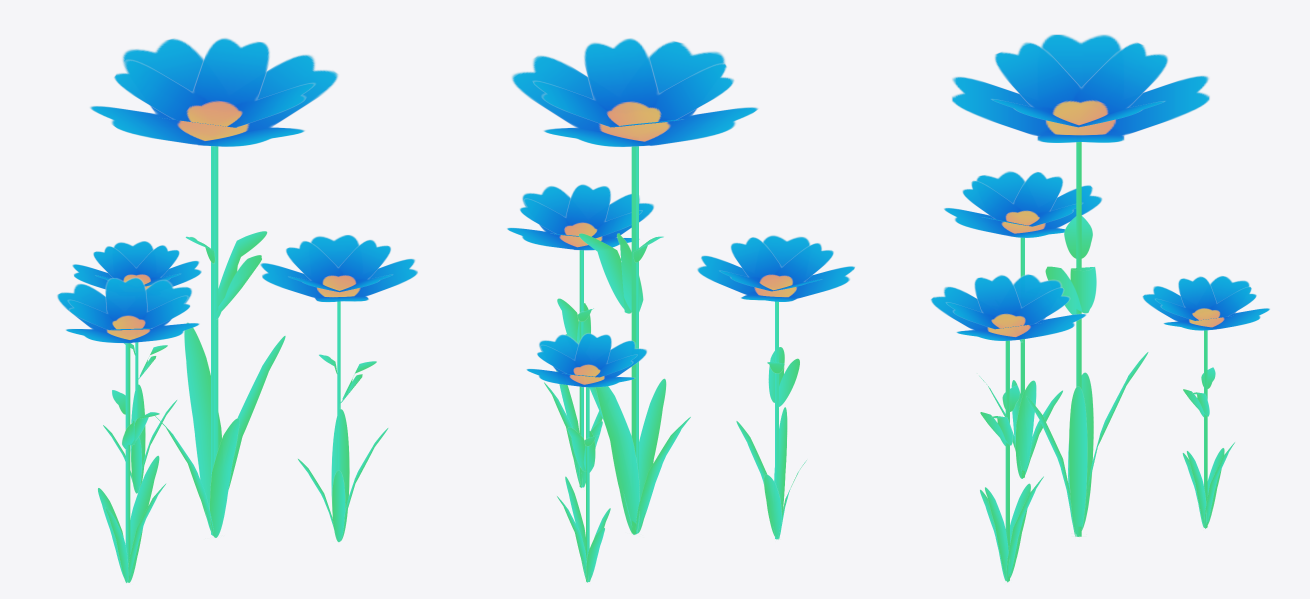
The model's file is Flower_n_01.glb.
The picture shows the model from 3 angles, left to right: view 1: azimuth 30°, elevation 25°; view 2: azimuth 150°, elevation 25°; view 3: azimuth 270°, elevation 25°; orthographic projection.
Parts seen in each view (by area): view 1: polySurface181.001; view 2: polySurface181.001; view 3: polySurface181.001.
Boxes of the visible parts, box(x1,y1,x2,y2) form: polySurface181.001: box(57, 37, 417, 582); polySurface181.001: box(506, 38, 854, 582); polySurface181.001: box(930, 34, 1270, 582).
Size of the model in its own units: 0.5681 by 0.6429 by 0.5009.
1 material, 1 textured.
